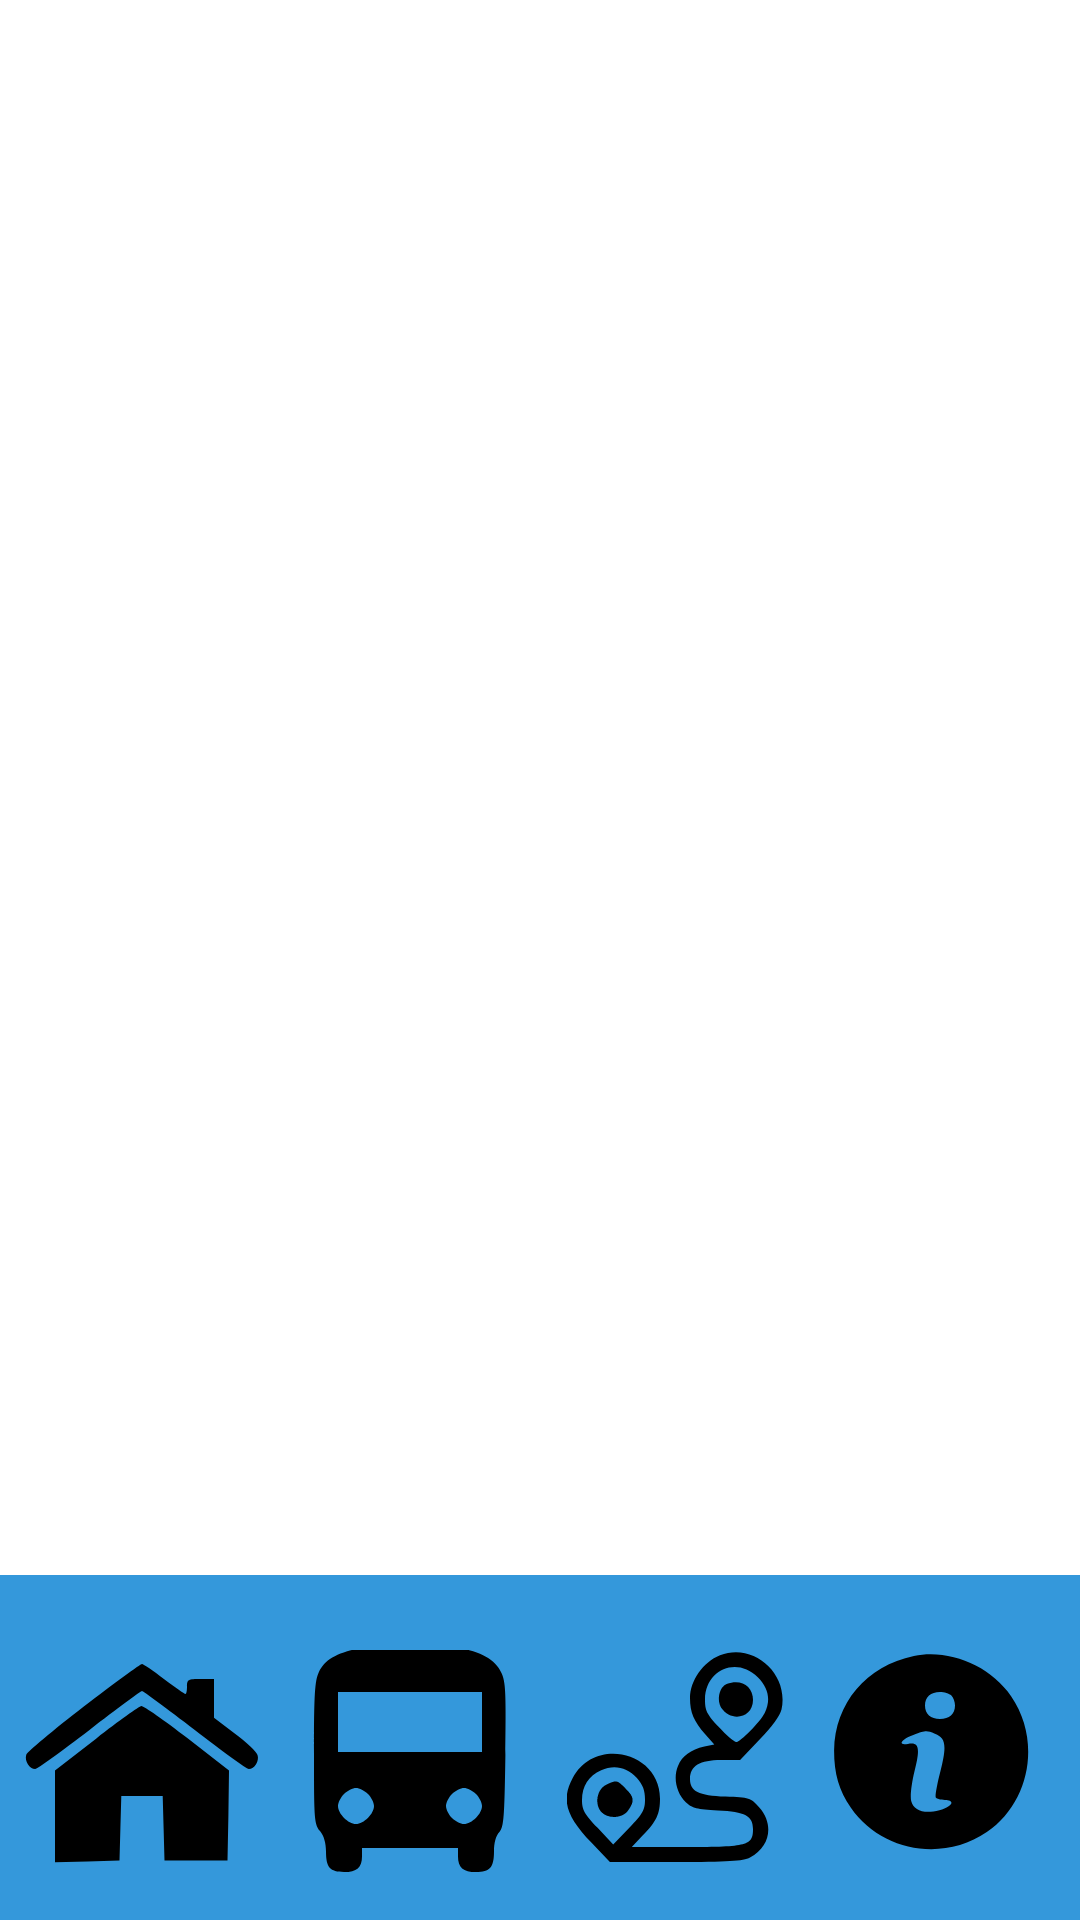

Where to tap for icons on this 1080px x 1920px app screen, as [x,y]:
about: [931,1752]
directions bus: [410,1761]
home: [141,1763]
route: [675,1757]
